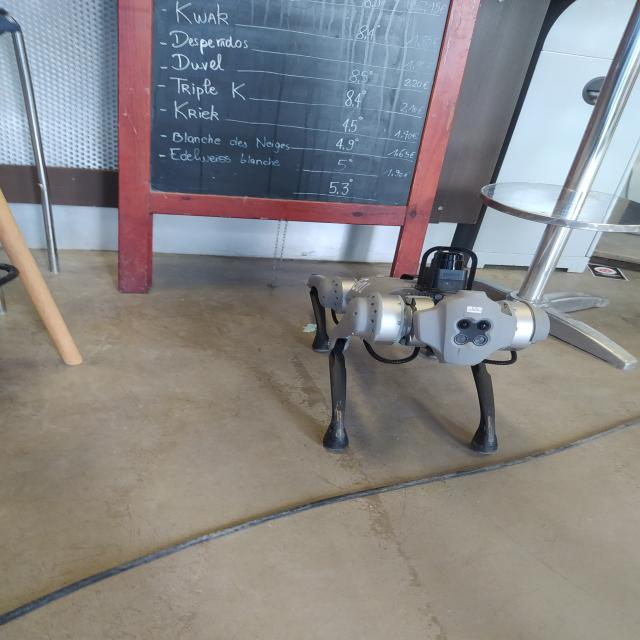unitree-go1-robot: (285, 228, 552, 474)
